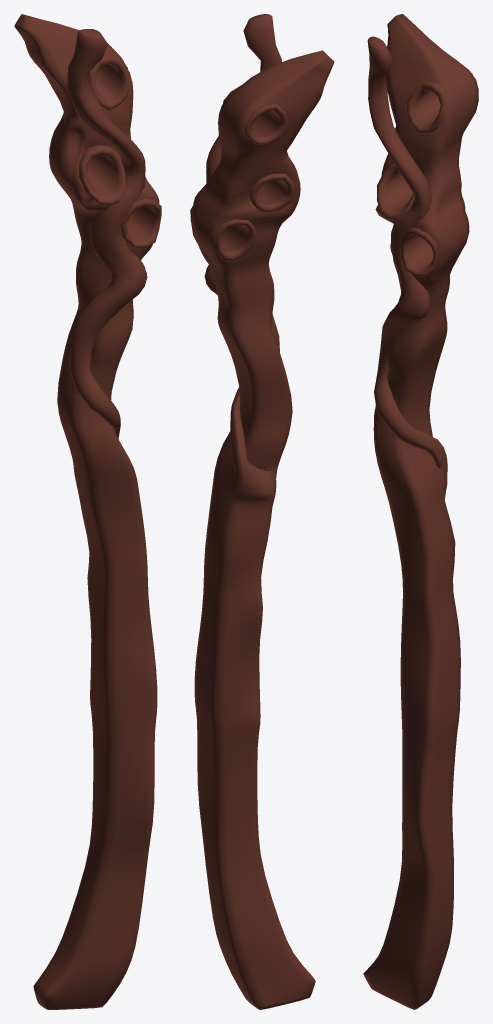
File: Baston.fbx
3 views of the same model, side by side, from view 1: azimuth 30°, elevation 25°; view 2: azimuth 210°, elevation 25°; view 3: azimuth 330°, elevation 25° (orthographic). The views are drawn at different scales.
Parts seen in each view (by area): view 1: Baston; view 2: Baston; view 3: Baston.
Part boxes in pixels (x1,y1,x2,y2): Baston: [14, 14, 161, 1009]; Baston: [190, 14, 334, 1009]; Baston: [363, 14, 478, 1009].
Size of the model in its own units: 15.87 by 148 by 15.67.
